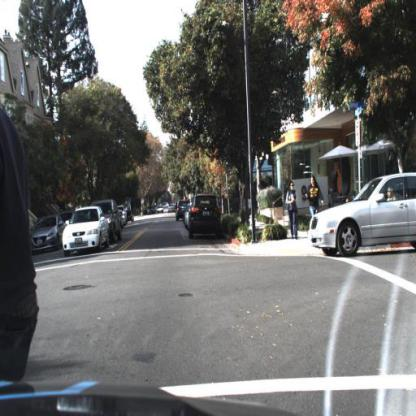car: (310, 174, 416, 260), (62, 205, 111, 258), (28, 212, 67, 257), (190, 193, 223, 241), (103, 199, 122, 245), (176, 199, 188, 220), (167, 205, 175, 215), (158, 206, 164, 215)
pedestrian: (305, 174, 326, 218), (287, 182, 299, 242)
